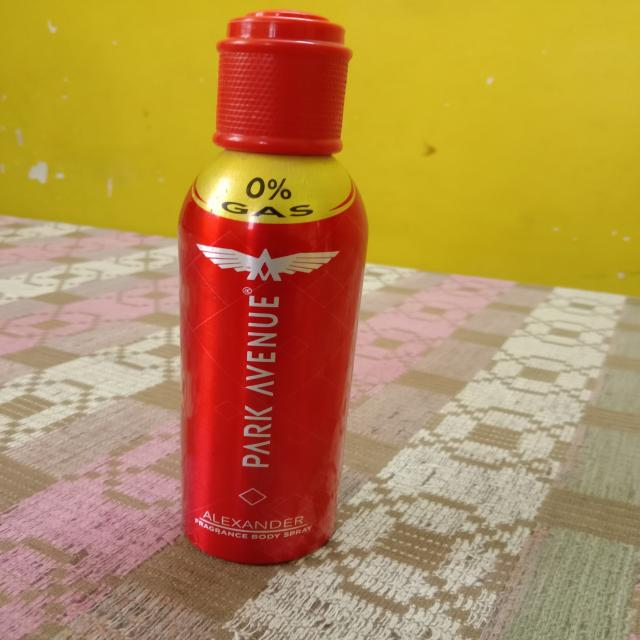deodorant: (179, 6, 352, 567)
